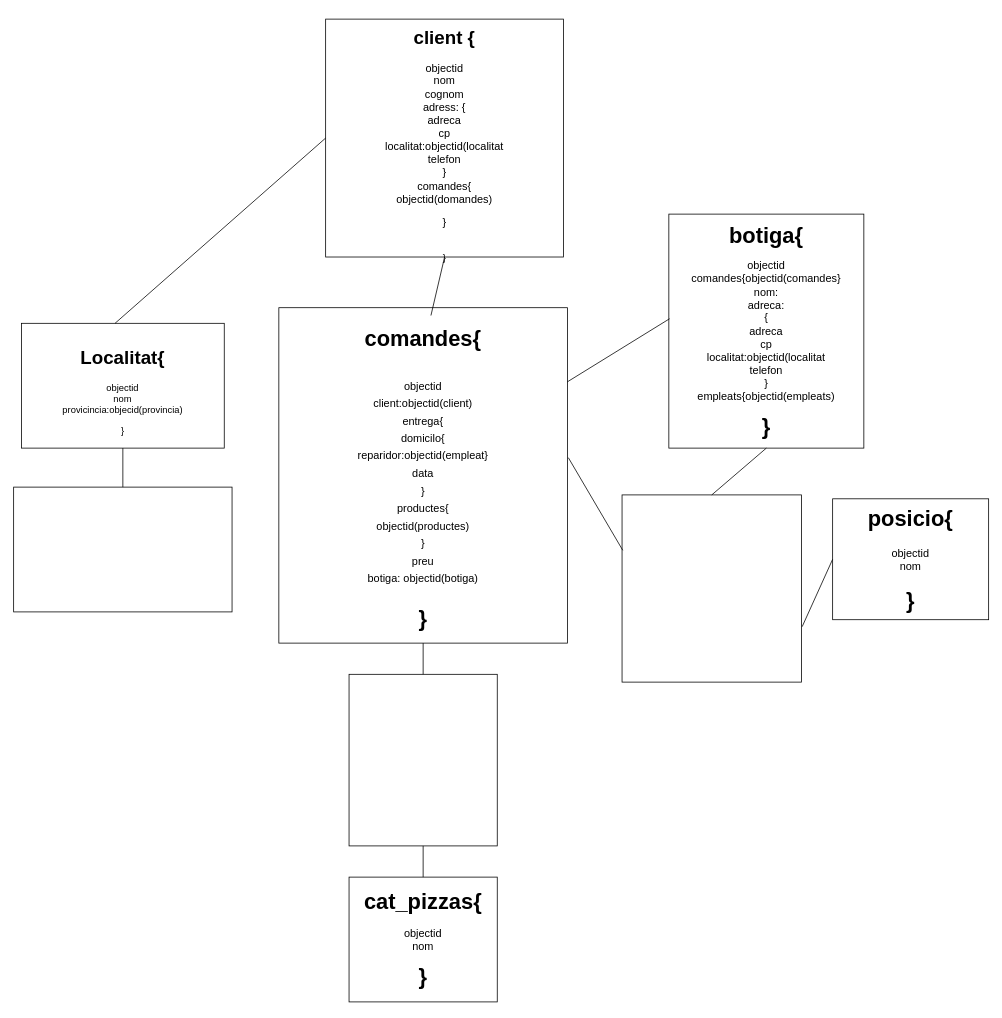
Some shapes in this 1002 by 1018 pixel diagram are drawn without their labels. Each missing label, with the centre of its shape:
"empleats{ objectid nom cognom nif telefon posicio:objectid(posiico) }" goes at point 711,588.
"producte{ objectid nom descripcio imagte preu pizza_cat:objectid }" goes at point 422,760.
"provincia{ objectid nom }" goes at point 122,549.
